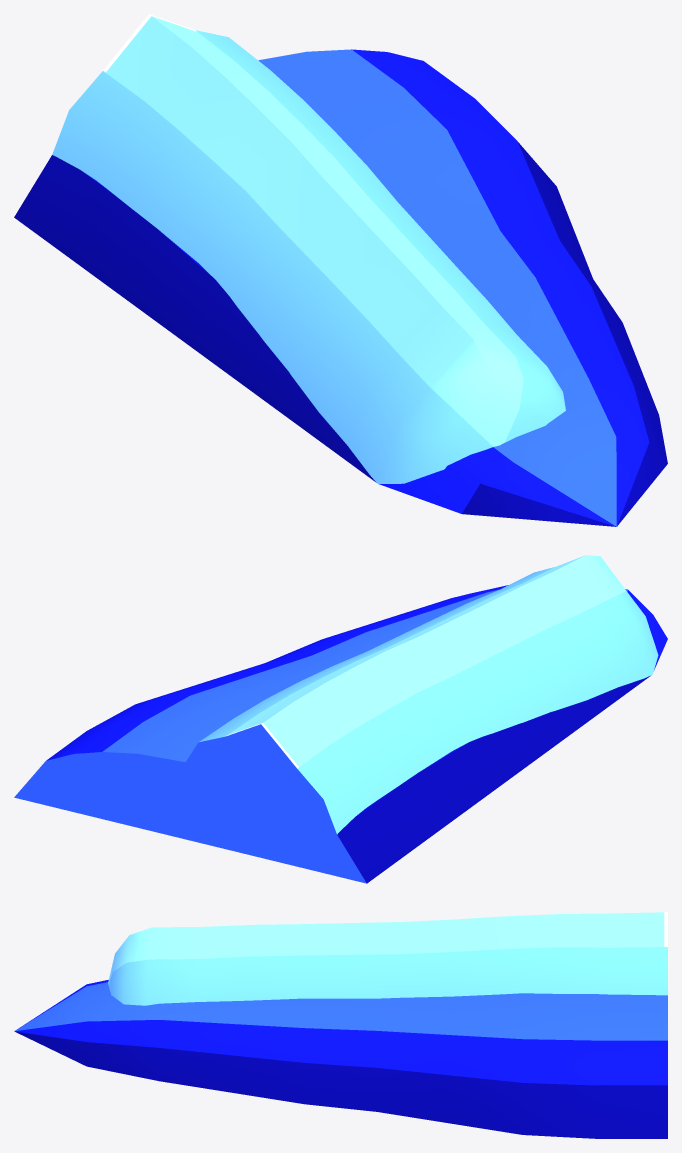
File: shot_lightning_269.glb
3 renders of one model, top to bottom at view 1: azimuth 30°, elevation 25°; view 2: azimuth 150°, elevation 25°; view 3: azimuth 270°, elevation 25°, orthographic. The views are drawn at different scales.
Parts seen in each view (by area): view 1: shot_lightning_269_1, shot_lightning_269_0; view 2: shot_lightning_269_1, shot_lightning_269_0; view 3: shot_lightning_269_0, shot_lightning_269_1.
Boxes of the visible parts, box(x1,y1,x2,y2) form: shot_lightning_269_1: box(52, 14, 565, 483); shot_lightning_269_0: box(14, 49, 667, 526); shot_lightning_269_1: box(182, 555, 658, 843); shot_lightning_269_0: box(14, 585, 667, 883); shot_lightning_269_0: box(14, 980, 667, 1138); shot_lightning_269_1: box(108, 912, 667, 1005).
Bounding box in the file's own units: 5 × 1.81 × 9.
